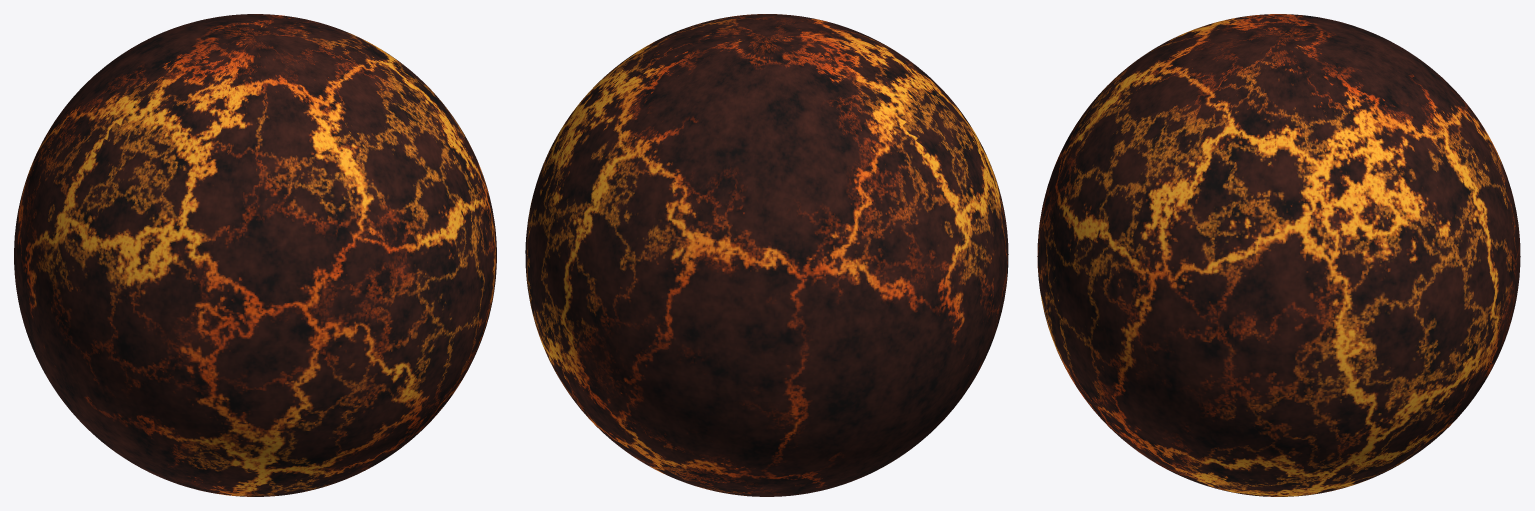
The model's file is flareon.obj.
3 renders of one model, left to right at view 1: azimuth 30°, elevation 25°; view 2: azimuth 150°, elevation 25°; view 3: azimuth 270°, elevation 25°, orthographic.
Bounding box in the file's own units: 4 × 4 × 4.
1 material, 1 textured.
